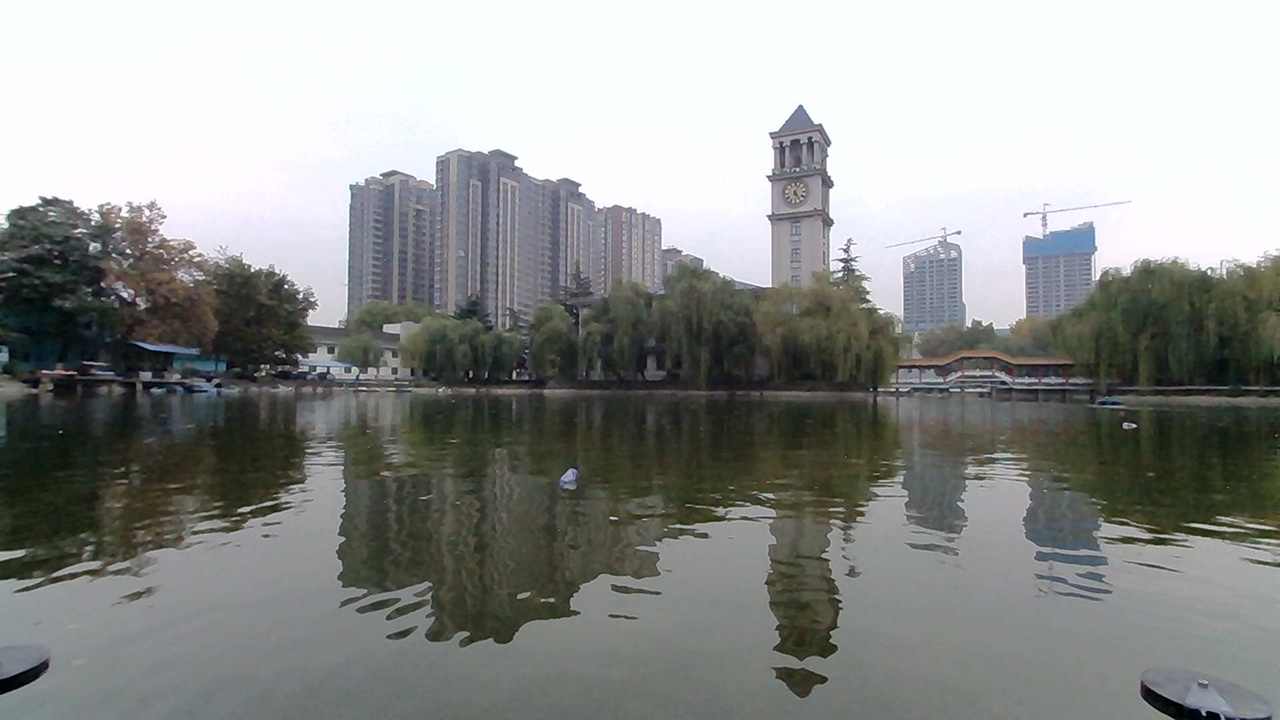bottle: (532, 445, 610, 492), (1109, 410, 1149, 437)
